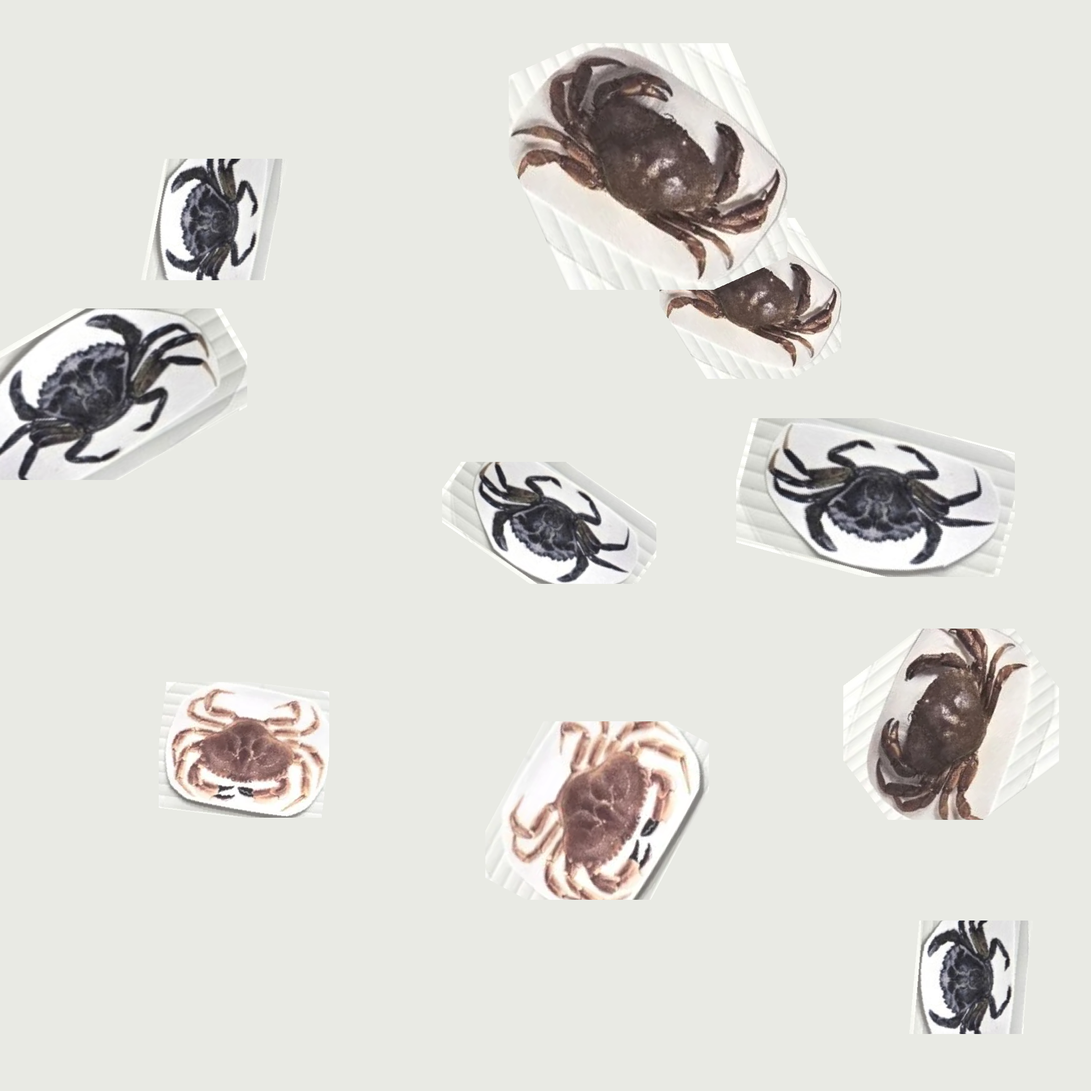evil: (738, 414, 1015, 579), (0, 305, 246, 469), (438, 460, 655, 584), (143, 159, 283, 281), (908, 924, 1031, 1038)
normal: (500, 43, 786, 288), (819, 629, 1058, 826), (488, 717, 712, 903), (157, 683, 340, 822), (660, 253, 831, 364)
